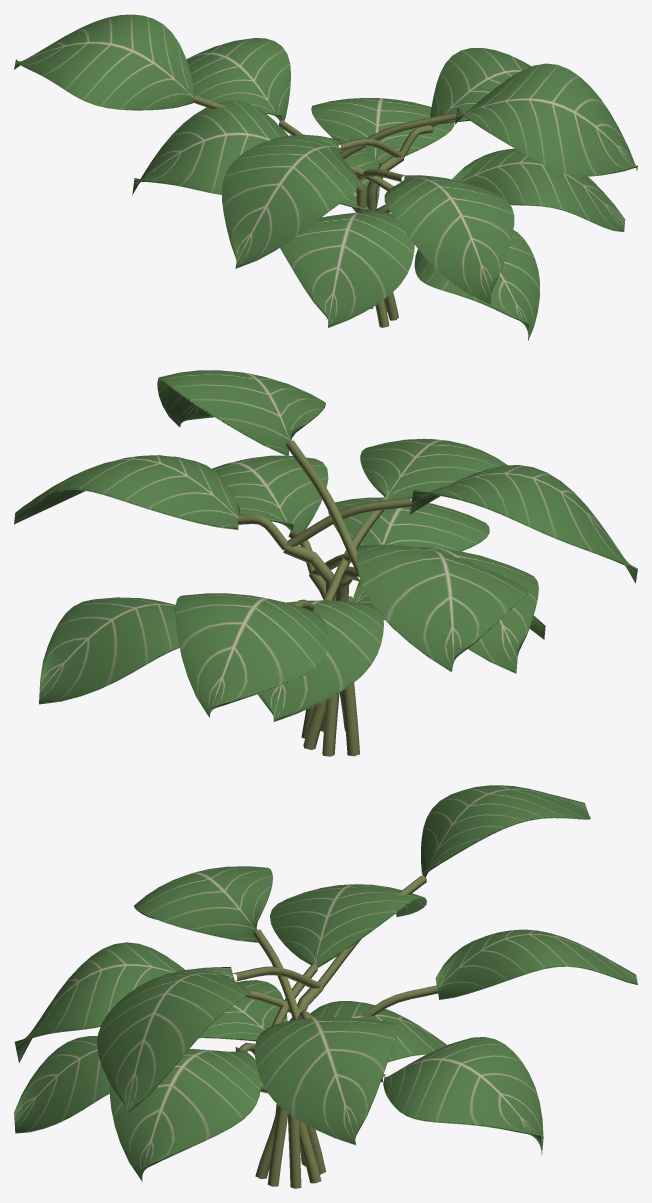
The model's file is fittonia-stage-2.glb.
The picture shows the model from 3 angles, top to bottom: view 1: azimuth 30°, elevation 25°; view 2: azimuth 150°, elevation 25°; view 3: azimuth 270°, elevation 25°; orthographic projection. The views are drawn at different scales.
Visible parts, largest first — view 1: Leaf_11, Leaf_5, Leaf_10, Leaf_9, Leaf_7, Leaf_3, Leaf_2, Leaf_8, Leaf_6, Leaf_0, PlantBranches, Leaf_4 (+1 smaller); view 2: Leaf_8, Leaf_10, Leaf_6, Leaf_4, PlantBranches, Leaf_11, Leaf_5, Leaf_1, Leaf_9, Leaf_2, Leaf_0, Leaf_3; view 3: Leaf_4, Leaf_11, Leaf_2, Leaf_6, PlantBranches, Leaf_3, Leaf_5, Leaf_8, Leaf_10, Leaf_9, Leaf_0, Leaf_7 (+1 smaller).
Boxes of the visible parts, <box> form: Leaf_11: <box>455,63,637,176</box>; Leaf_5: <box>222,134,358,268</box>; Leaf_10: <box>14,14,194,110</box>; Leaf_9: <box>384,175,514,304</box>; Leaf_7: <box>280,209,414,327</box>; Leaf_3: <box>132,100,287,194</box>; Leaf_2: <box>452,148,625,231</box>; Leaf_8: <box>186,38,290,121</box>; Leaf_6: <box>311,98,454,165</box>; Leaf_0: <box>414,230,539,340</box>; PlantBranches: <box>192,95,456,327</box>; Leaf_4: <box>430,48,531,135</box>; Leaf_8: <box>175,593,328,717</box>; Leaf_10: <box>356,544,528,672</box>; Leaf_6: <box>39,597,179,704</box>; Leaf_4: <box>14,455,239,529</box>; PlantBranches: <box>237,440,411,756</box>; Leaf_11: <box>157,370,325,456</box>; Leaf_5: <box>410,465,637,583</box>; Leaf_1: <box>258,600,383,721</box>; Leaf_9: <box>360,438,507,499</box>; Leaf_2: <box>212,455,328,532</box>; Leaf_0: <box>328,497,489,551</box>; Leaf_3: <box>417,547,538,673</box>; Leaf_4: <box>254,1017,397,1145</box>; Leaf_11: <box>97,967,250,1113</box>; Leaf_2: <box>109,1047,260,1181</box>; Leaf_6: <box>383,1037,543,1155</box>; PlantBranches: <box>233,875,438,1188</box>; Leaf_3: <box>270,884,426,967</box>; Leaf_5: <box>134,866,272,942</box>; Leaf_8: <box>435,929,637,999</box>; Leaf_10: <box>421,785,590,883</box>; Leaf_9: <box>14,942,184,1062</box>; Leaf_0: <box>14,1036,109,1133</box>; Leaf_7: <box>199,980,287,1041</box>.
Bounding box in the file's own units: 1.19 × 0.6368 × 1.23.
2 materials, 1 textured.
